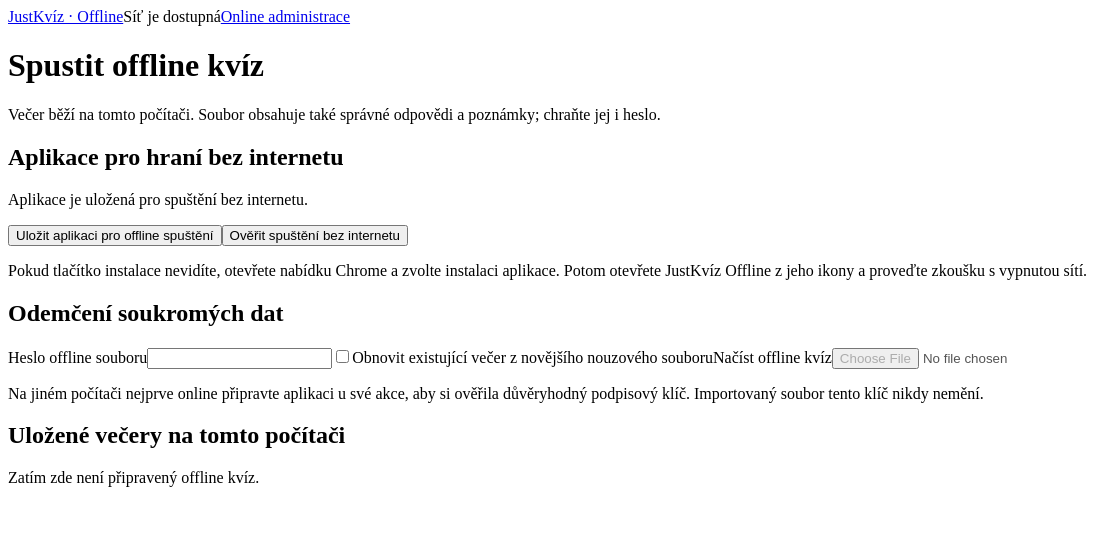
Test case: allows retry after a genuine installation failure
This screenshot has width=1103, height=538.
Click the button "Uložit aplikaci pro offline spuštění": (115, 235) 8,225 -> 222,246
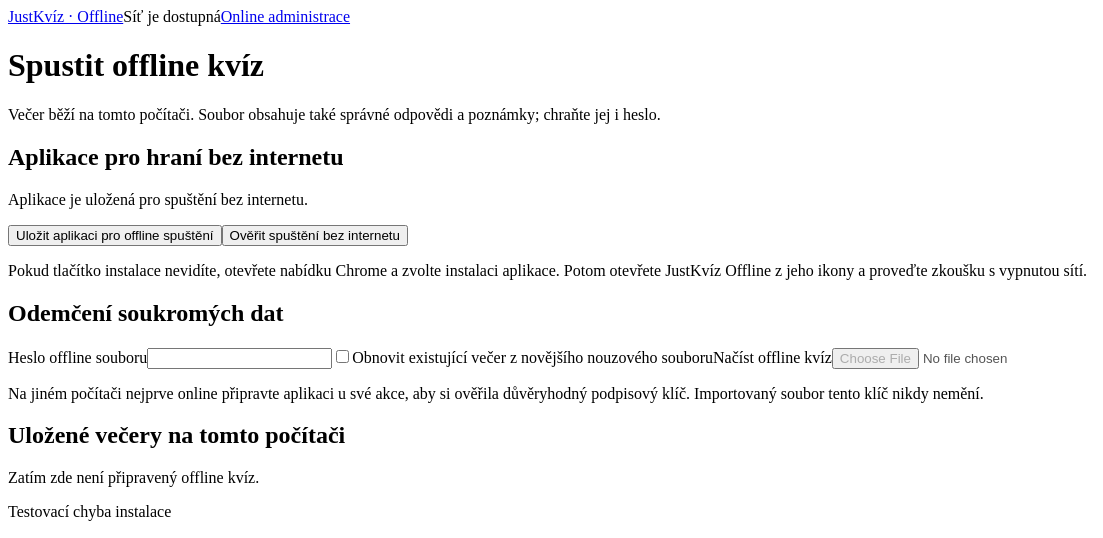
Now the message "Testovací chyba instalace" is shown, box 8,503 -> 171,520
Click the button "Uložit aplikaci pro offline spuštění": (115, 235) 8,225 -> 222,246
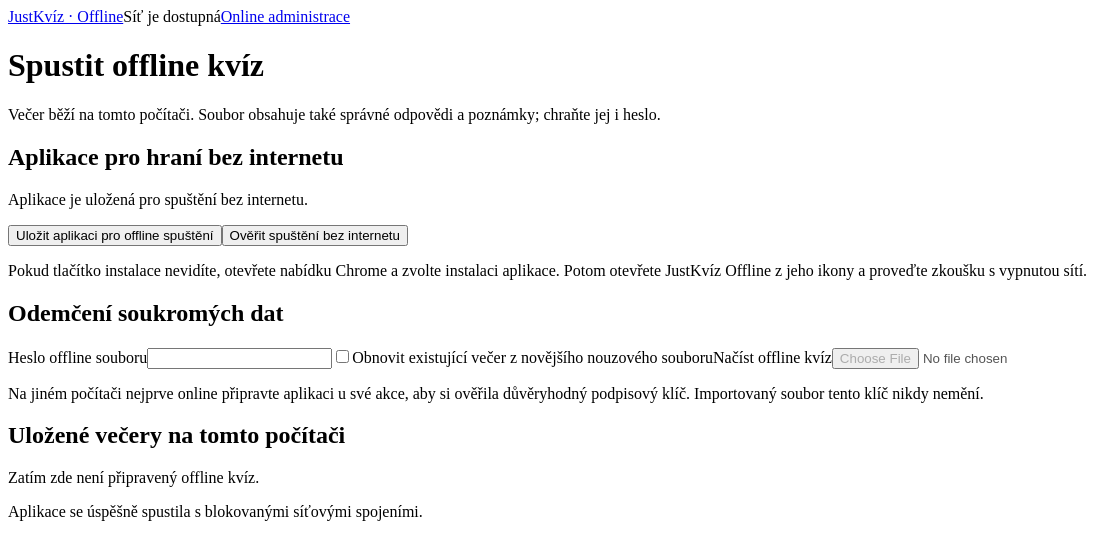
Now the message "Aplikace se úspěšně spustila s blokovanými síťovými spojeními." is shown, box 8,503 -> 423,520
